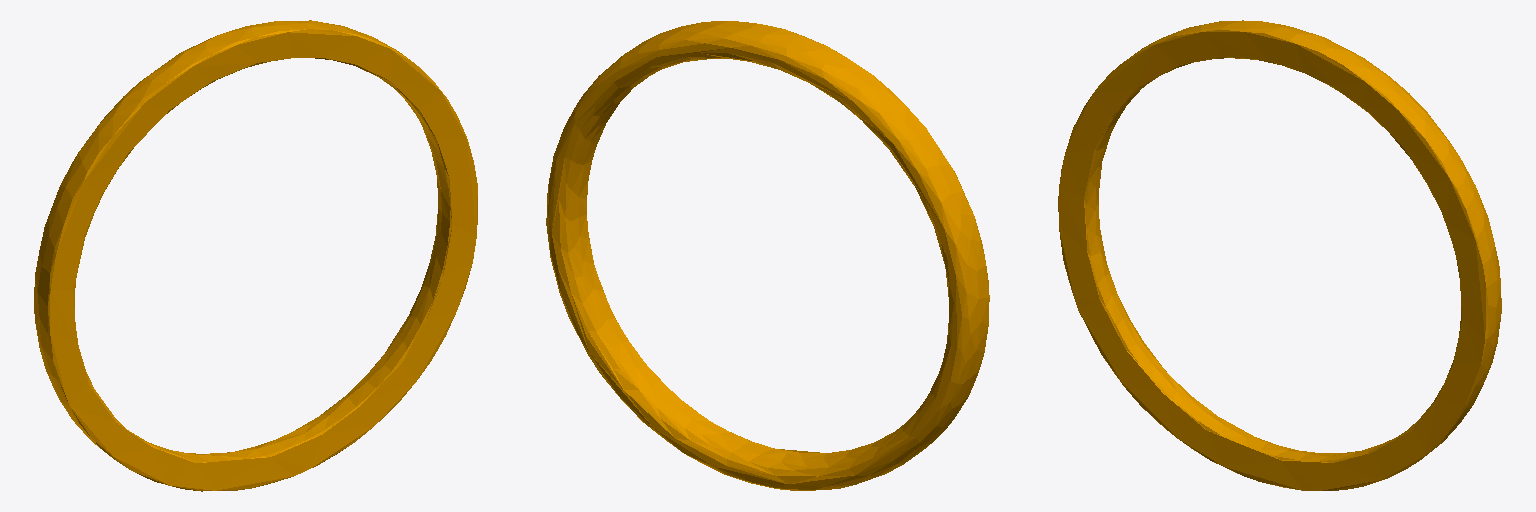
URDF robot description (ring):
<?xml version="1.0"?>
<robot name="ring">
  <link name="base_link">
    <visual>
      <geometry>
        <mesh filename="package://hpp-ompl-benchmark/mesh/ring.stl"/>
      </geometry>
    </visual>
  </link>
</robot>

--- Render facts (derived) ---
The picture shows the robot from 3 angles, left to right: view 1: azimuth 30°, elevation 25°; view 2: azimuth 150°, elevation 25°; view 3: azimuth 330°, elevation 25°; orthographic projection.
Robot: ring — 1 links, 0 joints (none); root link base_link; default pose: all joints at 0.
Visible links, largest first — view 1: base_link; view 2: base_link; view 3: base_link.
Boxes of the visible links, <box> form: base_link: <box>34,20,477,491</box>; base_link: <box>546,21,989,490</box>; base_link: <box>1058,20,1501,490</box>.
Size in the robot's own frame: 0.4201 by 0.0355 by 0.4198 metres.
Meshes: 1 distinct files referenced, 1 mesh visuals loaded (1 binary STL).